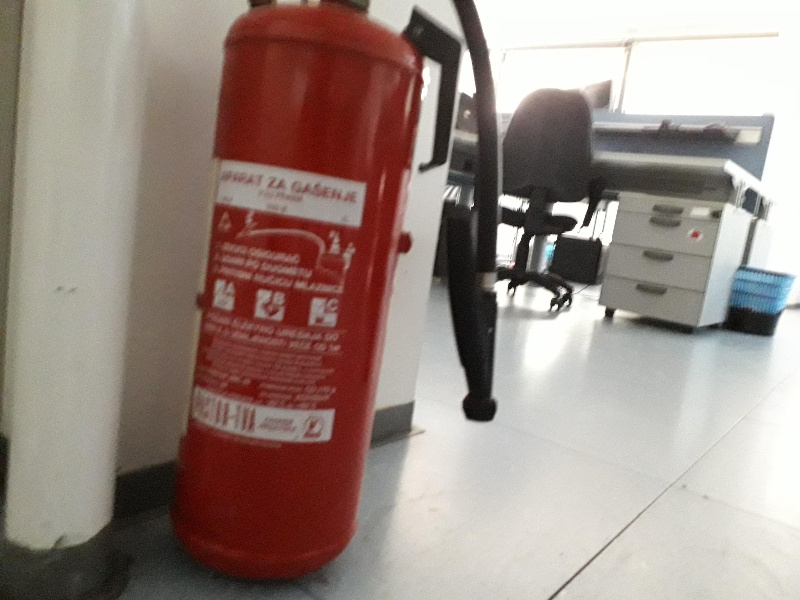vataparat: (166, 1, 498, 581)
